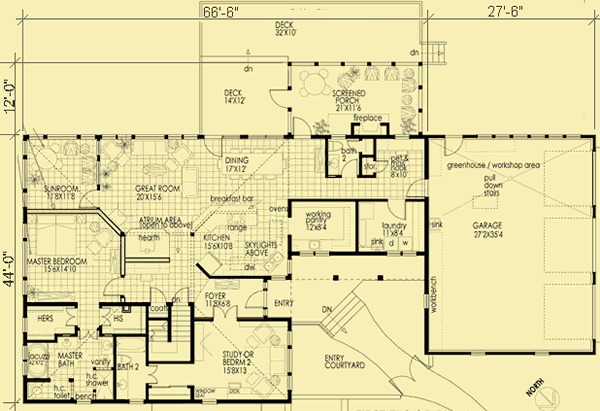bed: (33, 216, 81, 258)
dining table: (215, 146, 292, 184)
door: (290, 116, 315, 143), (384, 196, 409, 223), (243, 287, 270, 312), (200, 132, 224, 160), (441, 132, 466, 158), (101, 275, 127, 300), (267, 86, 292, 111), (210, 303, 240, 323), (77, 187, 103, 210), (404, 176, 430, 199), (338, 157, 360, 181), (147, 285, 170, 305), (171, 285, 191, 305), (96, 306, 114, 328), (77, 327, 103, 342), (64, 306, 80, 329), (144, 363, 160, 386), (374, 157, 388, 173)
large sofa: (128, 139, 172, 160), (179, 164, 202, 200), (270, 342, 288, 378)
round table: (295, 69, 333, 98), (30, 145, 66, 174)
small sink: (116, 370, 128, 400), (55, 337, 79, 349)
small sofa: (195, 250, 225, 279), (253, 321, 277, 346), (252, 376, 278, 399), (170, 142, 194, 165), (103, 141, 127, 161)
stairs: (146, 304, 194, 363), (317, 289, 369, 341), (411, 39, 452, 69)
tub: (27, 344, 50, 381), (116, 335, 147, 355)
windows: (473, 130, 586, 144), (283, 329, 297, 397), (20, 222, 30, 299), (20, 139, 30, 211), (296, 246, 332, 261), (18, 342, 29, 378), (384, 248, 417, 259), (420, 290, 432, 313), (125, 397, 149, 408), (530, 348, 554, 358), (468, 349, 491, 359), (200, 395, 219, 406), (72, 399, 94, 408)
